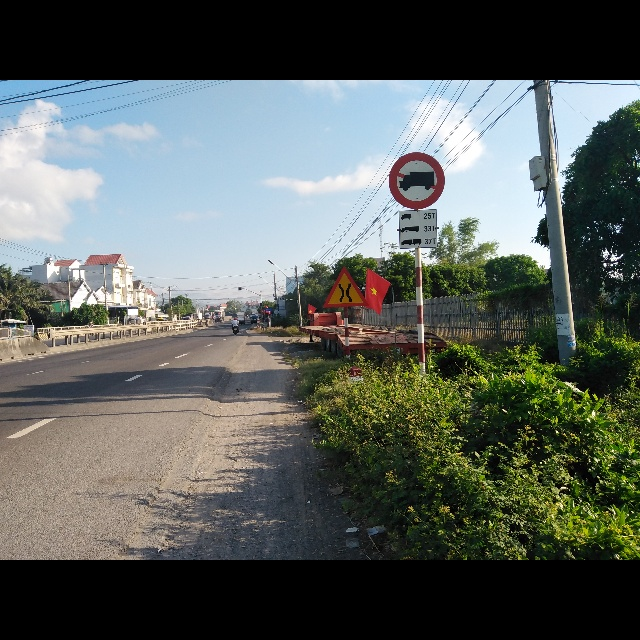Cấm xe tải: (388, 153, 445, 210)
Cầu hẹp: (324, 265, 369, 307)
